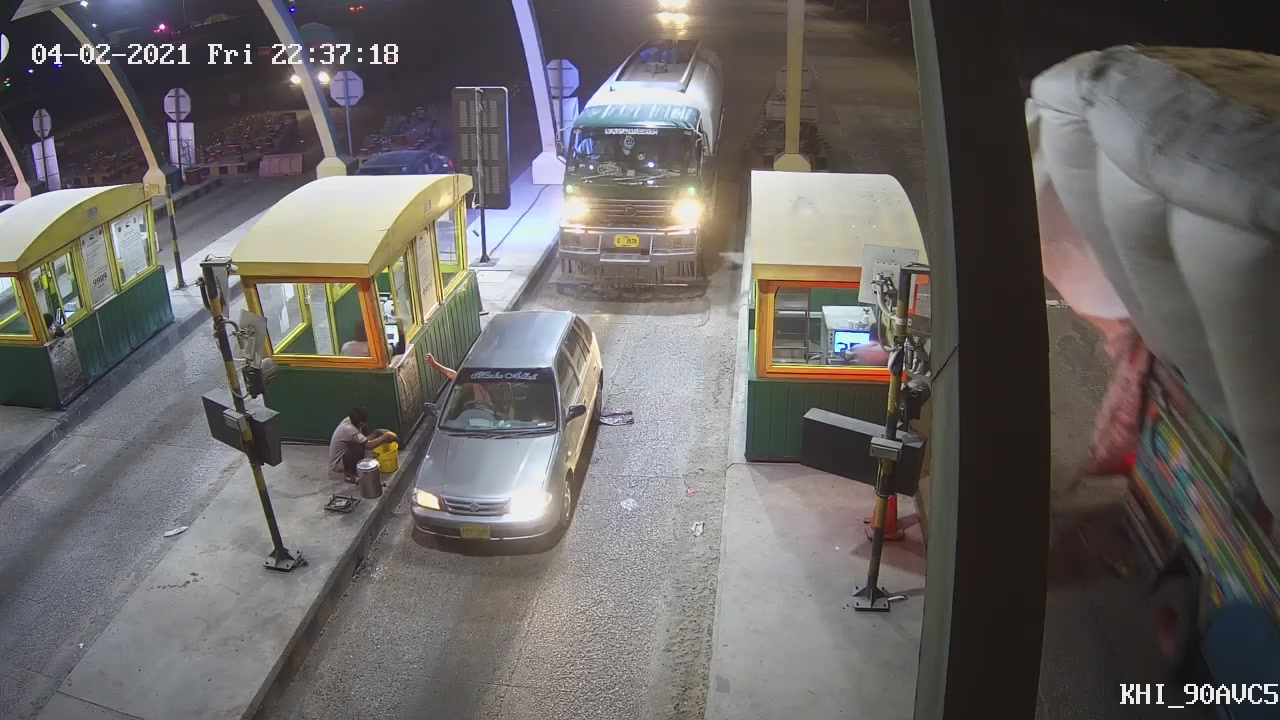F6: (547, 42, 738, 299)
